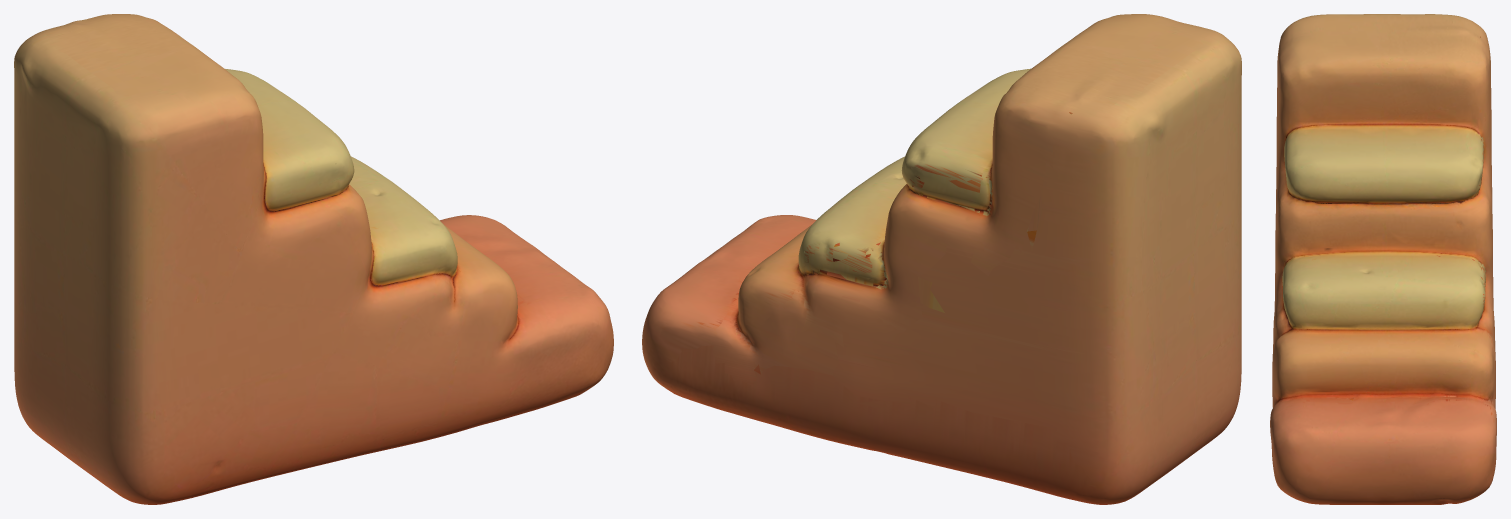
Rendered from env_nest_stair_01.glb.
The picture shows the model from 3 angles, left to right: view 1: azimuth 30°, elevation 25°; view 2: azimuth 150°, elevation 25°; view 3: azimuth 270°, elevation 25°; orthographic projection. The views are drawn at different scales.
Parts seen in each view (by area): view 1: tripo_node_941eb101-b1f1-4a51-b548-4fdcb60280fc; view 2: tripo_node_941eb101-b1f1-4a51-b548-4fdcb60280fc; view 3: tripo_node_941eb101-b1f1-4a51-b548-4fdcb60280fc.
Part boxes in pixels (bbox=[...]): tripo_node_941eb101-b1f1-4a51-b548-4fdcb60280fc: bbox=[14, 14, 613, 504]; tripo_node_941eb101-b1f1-4a51-b548-4fdcb60280fc: bbox=[642, 14, 1241, 504]; tripo_node_941eb101-b1f1-4a51-b548-4fdcb60280fc: bbox=[1270, 14, 1496, 504].
Bounding box in the file's own units: 1.31 × 1 × 0.6442.
1 material, 1 textured.
